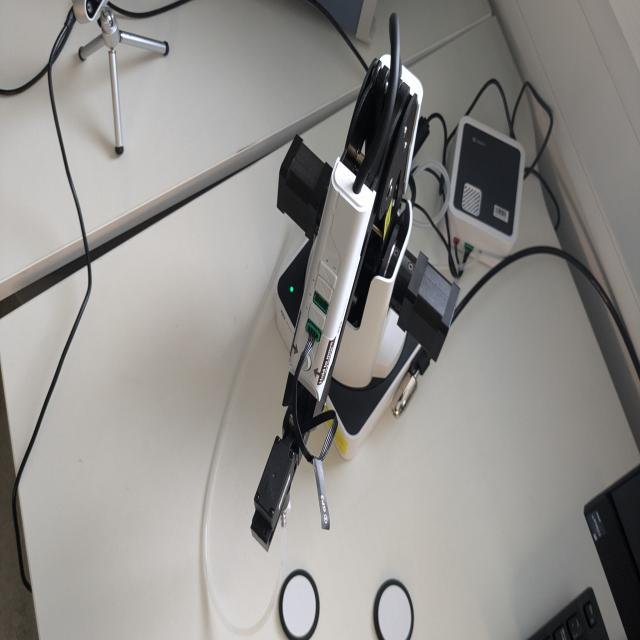Robot-end-effector-HF8z: (249, 420, 305, 554)
